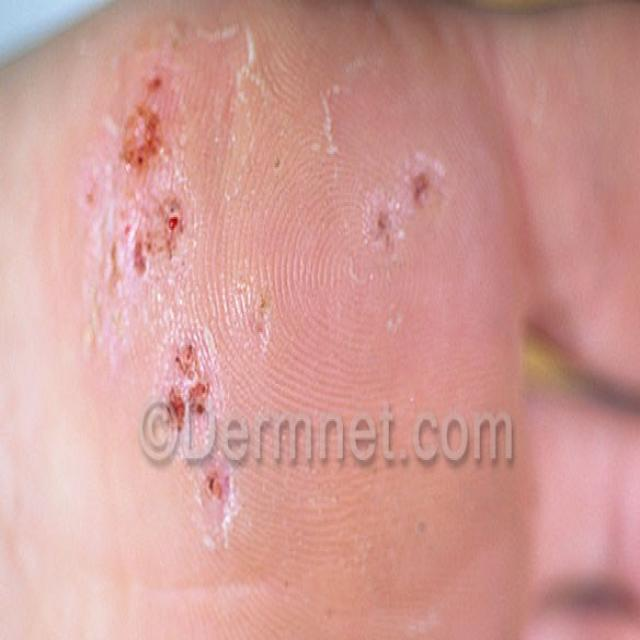Warts: (80, 47, 196, 297), (155, 331, 238, 533), (362, 147, 454, 256)
